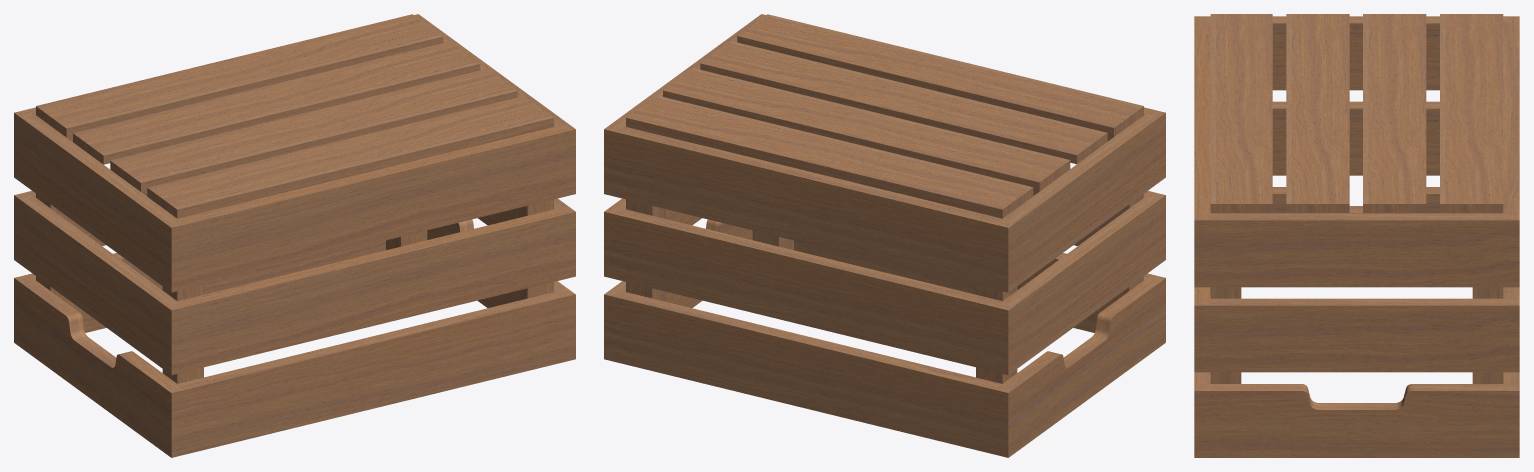
Rendered from Ht_muxiang_01.FBX.
The picture shows the model from 3 angles, left to right: view 1: azimuth 30°, elevation 25°; view 2: azimuth 150°, elevation 25°; view 3: azimuth 270°, elevation 25°; orthographic projection. The views are drawn at different scales.
Parts seen in each view (by area): view 1: Ht_muxiang_01; view 2: Ht_muxiang_01; view 3: Ht_muxiang_01.
Part boxes in pixels (x1,y1,x2,y2): Ht_muxiang_01: [14, 14, 575, 457]; Ht_muxiang_01: [604, 14, 1165, 457]; Ht_muxiang_01: [1194, 14, 1519, 457].
Bounding box in the file's own units: 85.18 × 48.12 × 57.44.
Materials: 1 (1 with a texture image).
